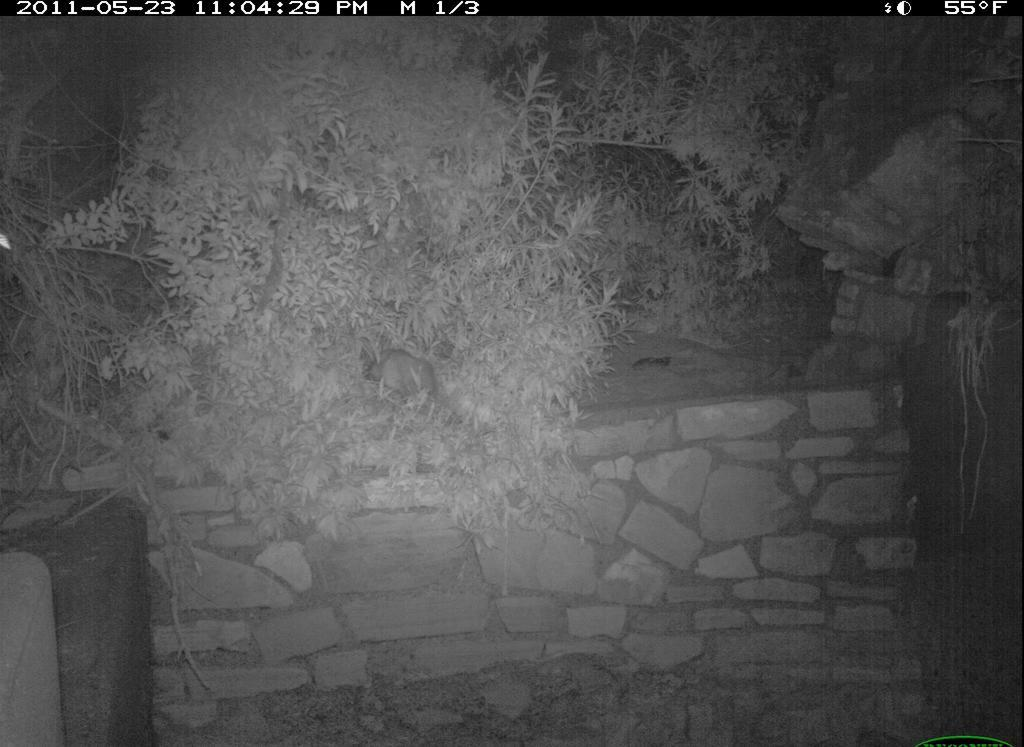opossum: (335, 340, 473, 429)
